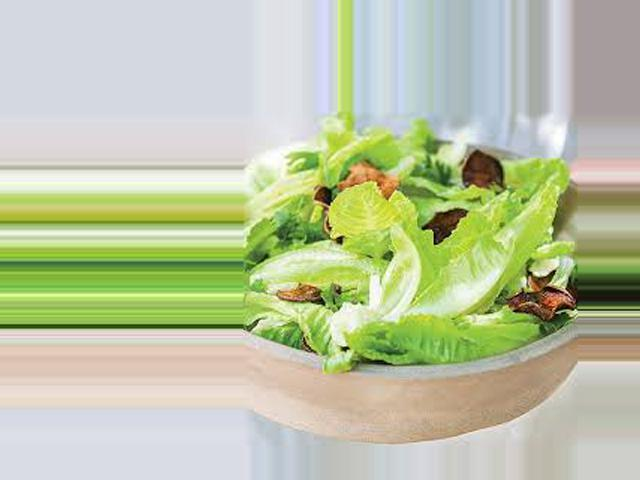lettuce: (260, 132, 545, 365)
